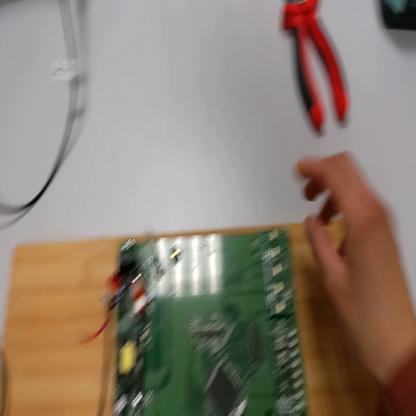hand: (299, 151, 411, 381)
low voltage board: (70, 229, 311, 416)
pliers: (283, 1, 353, 136)
welder station: (382, 2, 416, 31)
working area: (2, 223, 392, 415)
